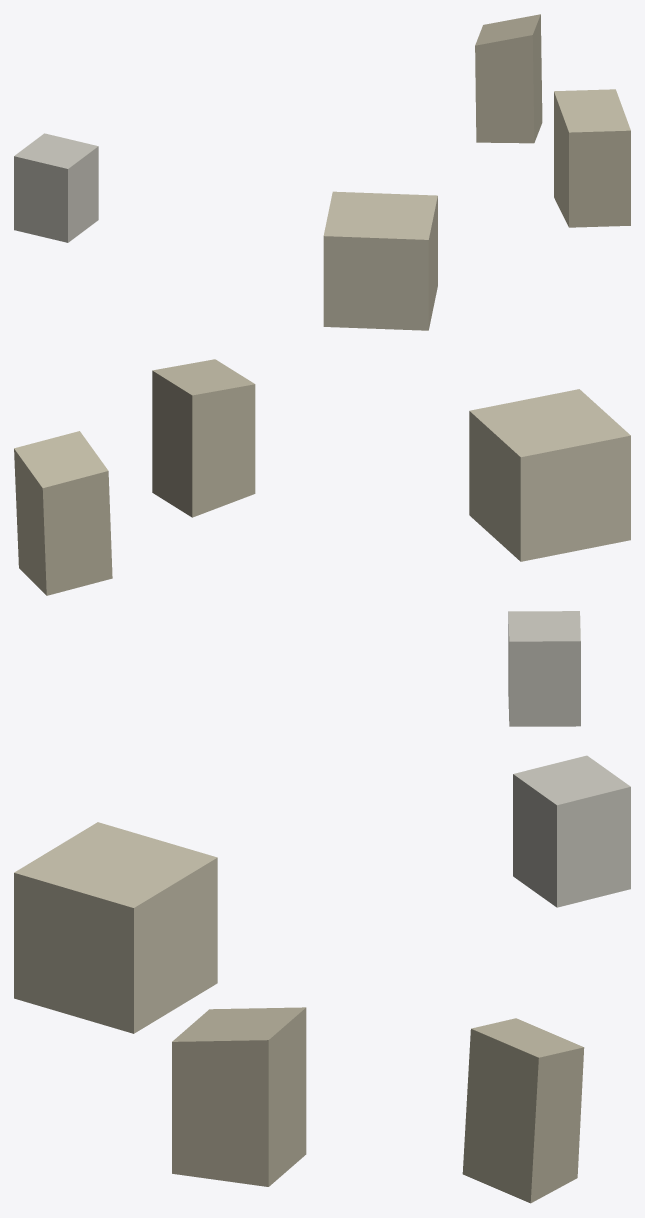
The model's file is rocks-square-s-02.glb.
3 renders of one model, top to bottom at view 1: azimuth 30°, elevation 25°; view 2: azimuth 150°, elevation 25°; view 3: azimuth 270°, elevation 25°, orthographic. The views are drawn at different scales.
Visible parts, largest first — view 1: Rocks_Square_s_02; view 2: Rocks_Square_s_02; view 3: Rocks_Square_s_02.
Part boxes in pixels (box(x1,y1,x2,y2)): Rocks_Square_s_02: box(14, 14, 630, 330); Rocks_Square_s_02: box(14, 359, 630, 726); Rocks_Square_s_02: box(14, 755, 630, 1203).
Size of the model in its own units: 0.6138 by 0.1297 by 0.4646.
Materials: 1 (1 with a texture image).
